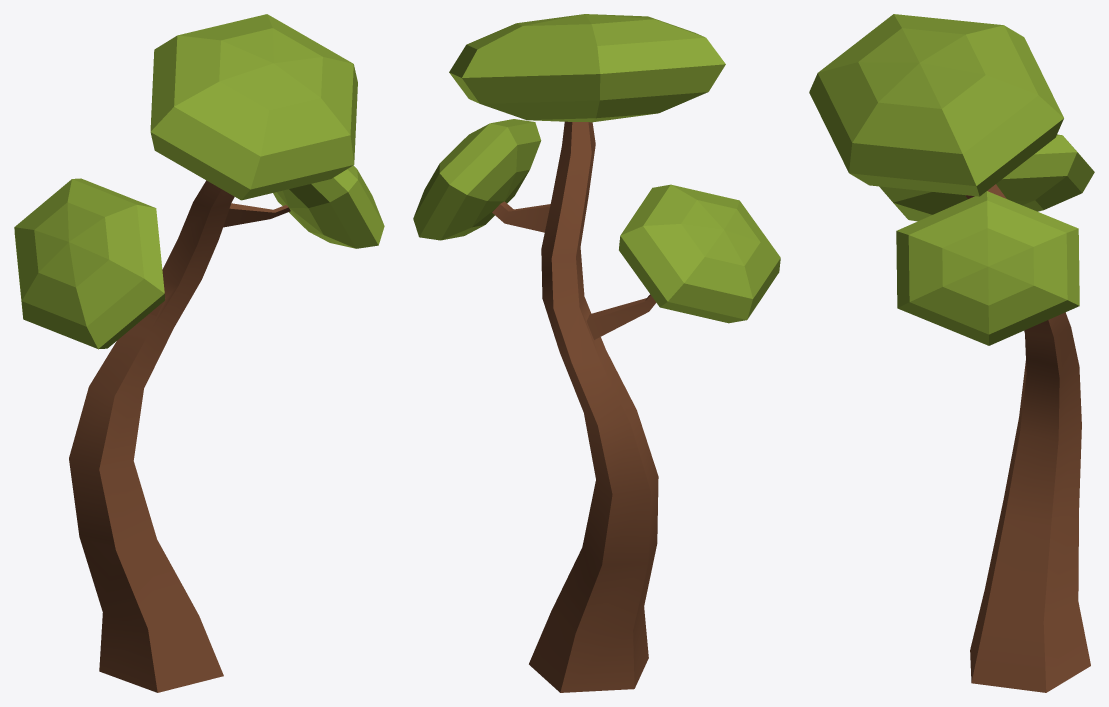
Rendered from Tree3.fbx.
3 renders of one model, left to right at view 1: azimuth 30°, elevation 25°; view 2: azimuth 150°, elevation 25°; view 3: azimuth 270°, elevation 25°, orthographic. The views are drawn at different scales.
Visible parts, largest first — view 1: pCylinder3, pSphere8, pSphere10, pSphere9; view 2: pCylinder3, pSphere8, pSphere10, pSphere9; view 3: pSphere8, pCylinder3, pSphere9, pSphere10.
Part boxes in pixels (x1,y1,x2,y2): pCylinder3: (69, 180, 290, 692); pSphere8: (150, 14, 357, 200); pSphere10: (14, 178, 164, 349); pSphere9: (273, 165, 384, 248); pCylinder3: (492, 121, 658, 692); pSphere8: (449, 14, 725, 122); pSphere10: (619, 184, 780, 323); pSphere9: (413, 119, 541, 240); pSphere8: (809, 14, 1063, 196); pCylinder3: (965, 184, 1090, 692); pSphere9: (896, 191, 1079, 345); pSphere10: (879, 134, 1094, 221).
Bounding box in the file's own units: 5.02 × 9.25 × 3.71.
